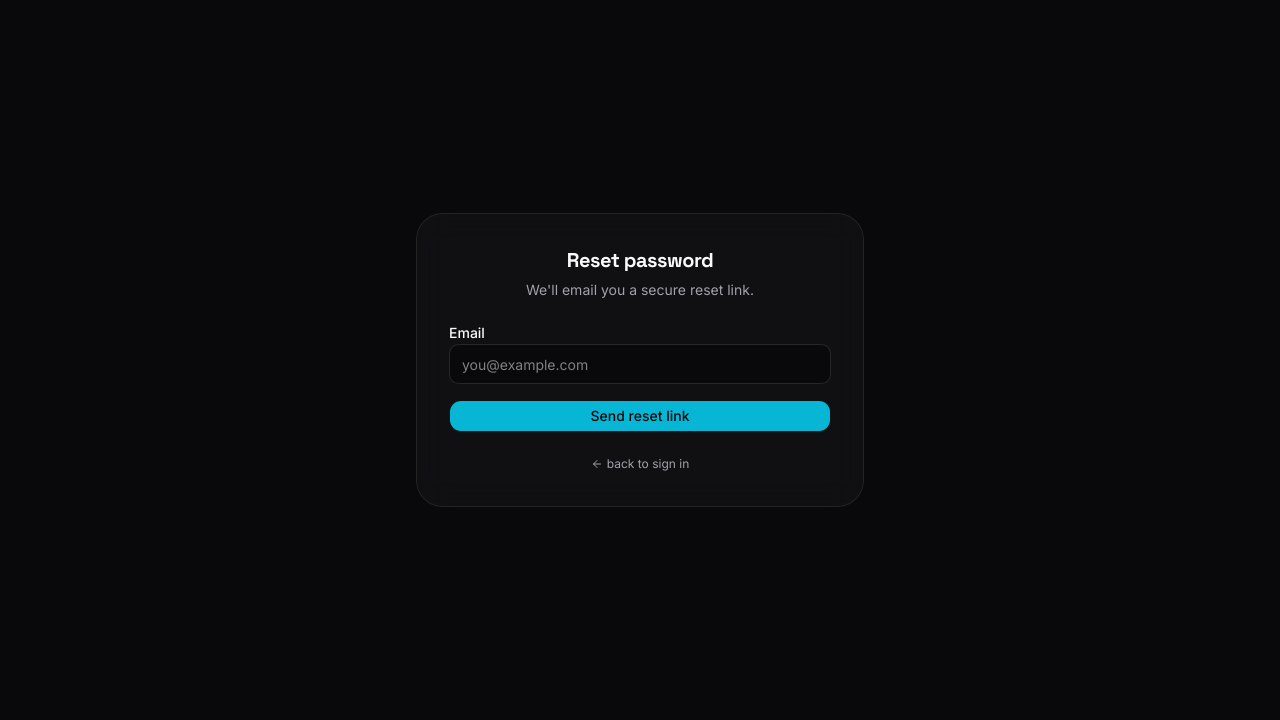
Scenario: Forgot Password Page › closes the dialog with the Close button, leaving the inbox panel
Type "contract.rahat@gmail.com" into the field labelled "Email" at (640, 364), box [449,344,831,384]
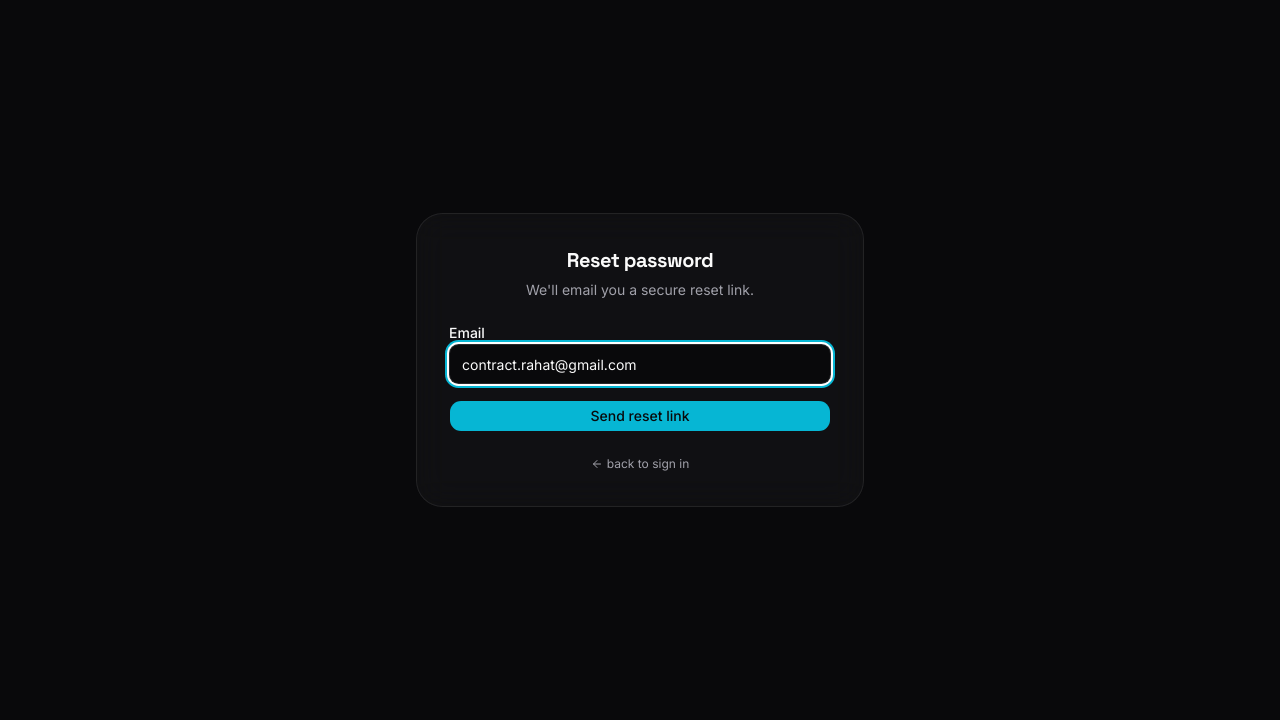
Click the button "Send reset link" at (640, 416), box [449,400,831,432]
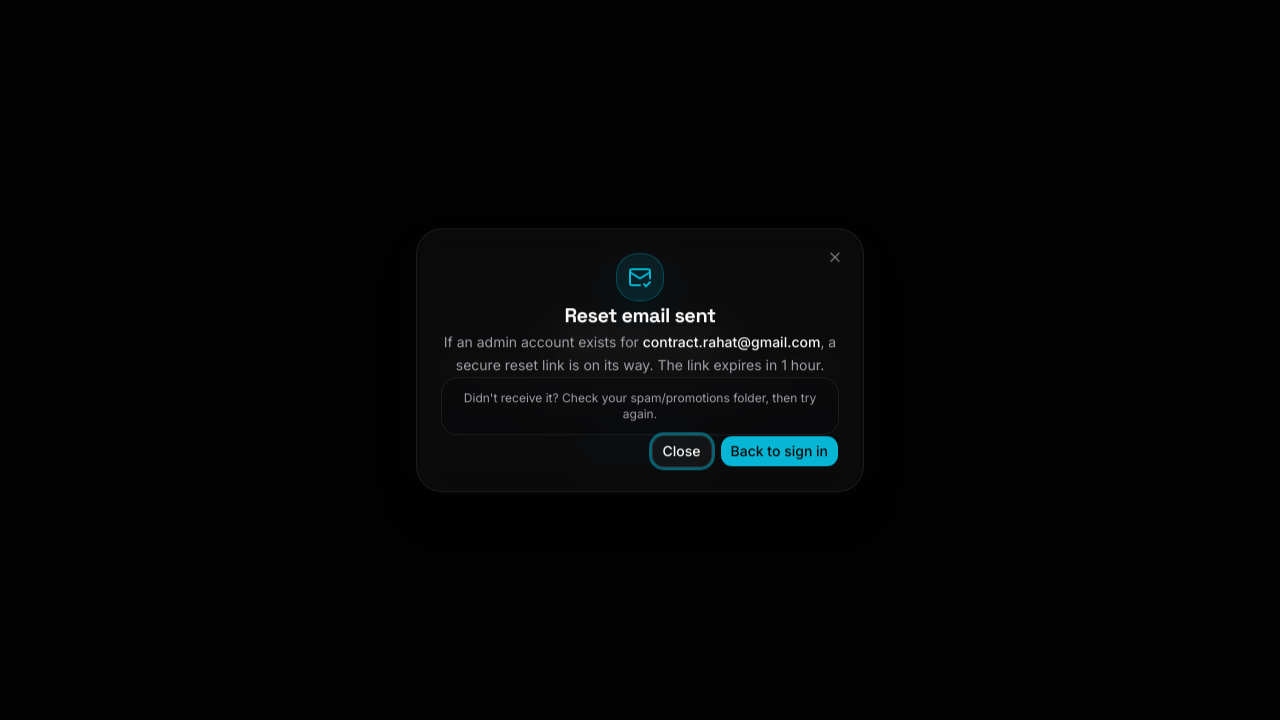
// Exact accessible name "Close" — the X icon button is named "Close dialog".
Click the button "Close" at (682, 451), box [652,435,712,467]
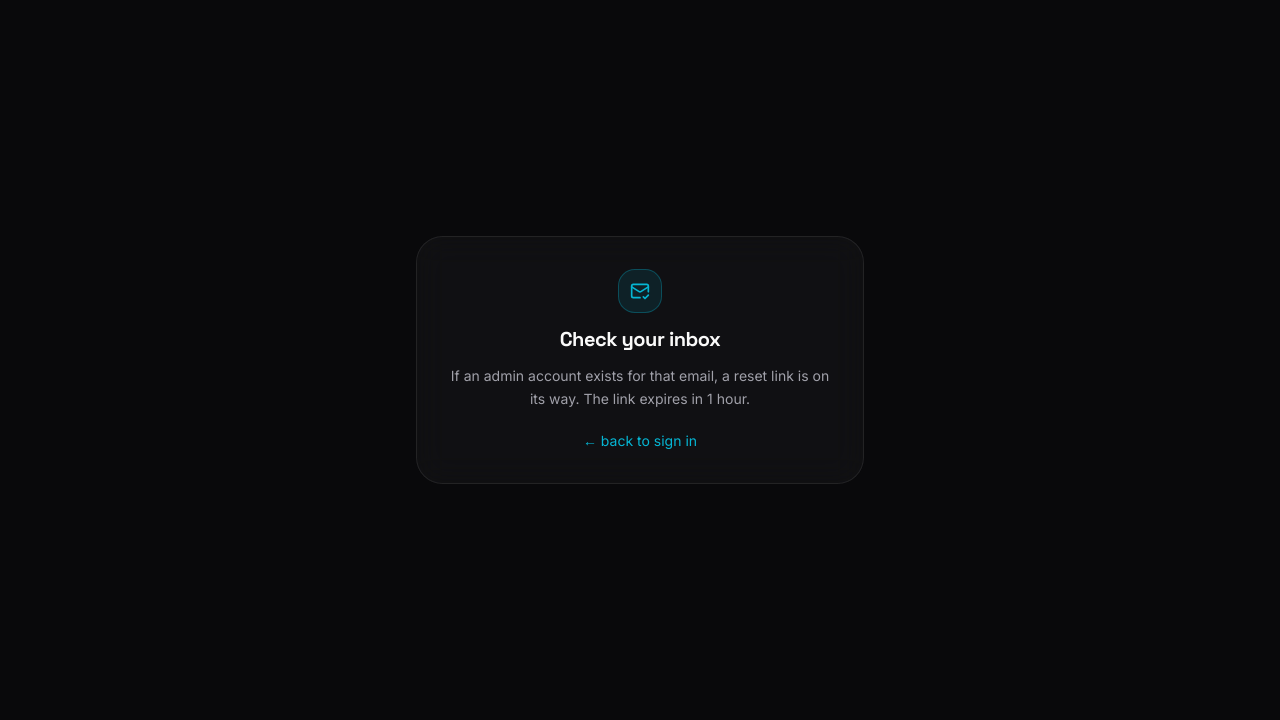
Now the heading "Check your inbox" is shown, box [560,325,720,353]
Now the link "← back to sign in" is shown, box [583,431,697,451]
Now the dialog is gone
